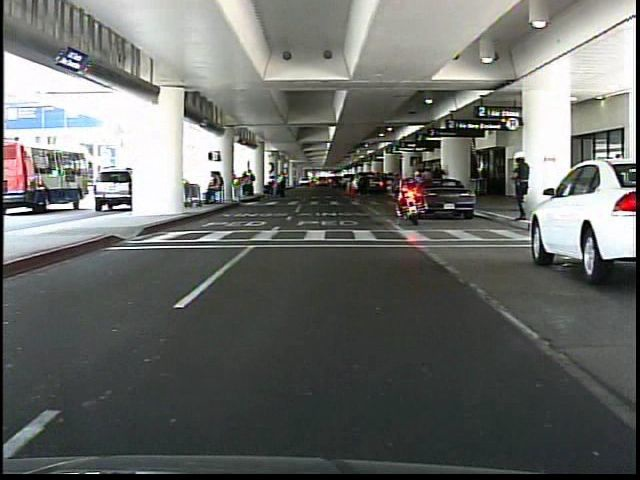person: (508, 147, 532, 225)
